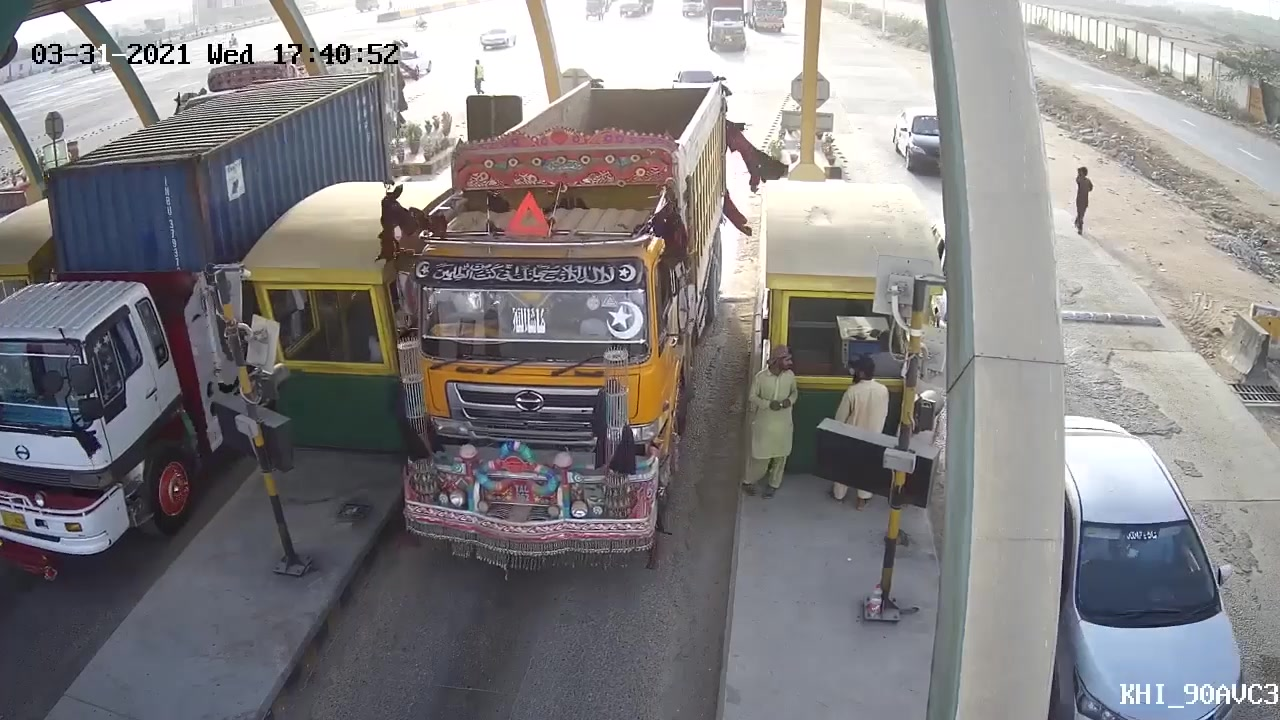F5: (387, 69, 755, 586)
